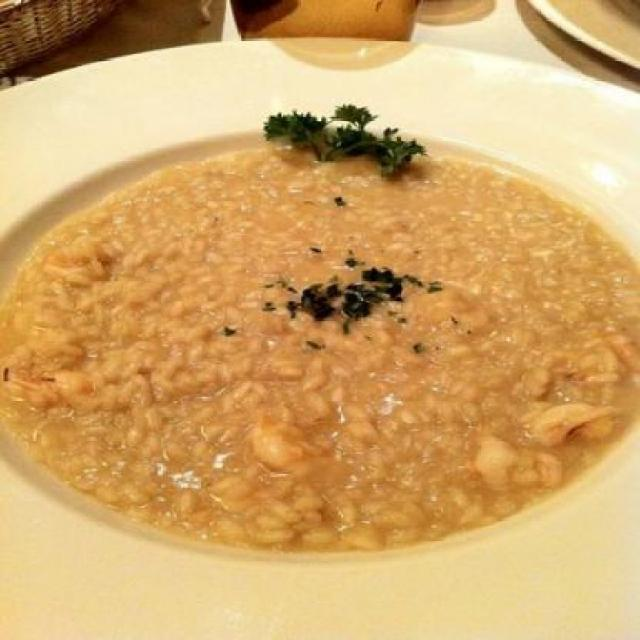Risotto: (16, 150, 609, 550)
